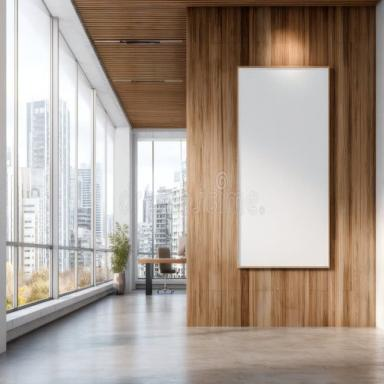glass_panel: (18, 0, 51, 305), (58, 33, 76, 292), (154, 141, 186, 278), (77, 67, 92, 287), (6, 2, 15, 308), (137, 142, 153, 278), (17, 247, 50, 307), (95, 100, 106, 248), (106, 118, 115, 248), (58, 250, 76, 294), (6, 246, 15, 311), (78, 251, 92, 289), (96, 251, 106, 284), (107, 252, 114, 281)
